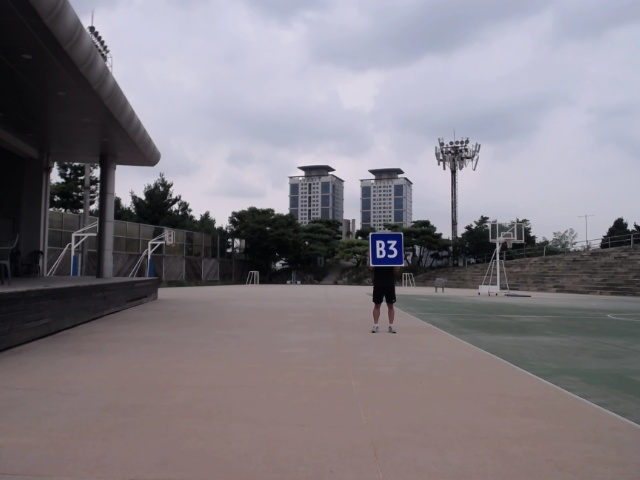delivery_b3: (369, 231, 406, 268)
